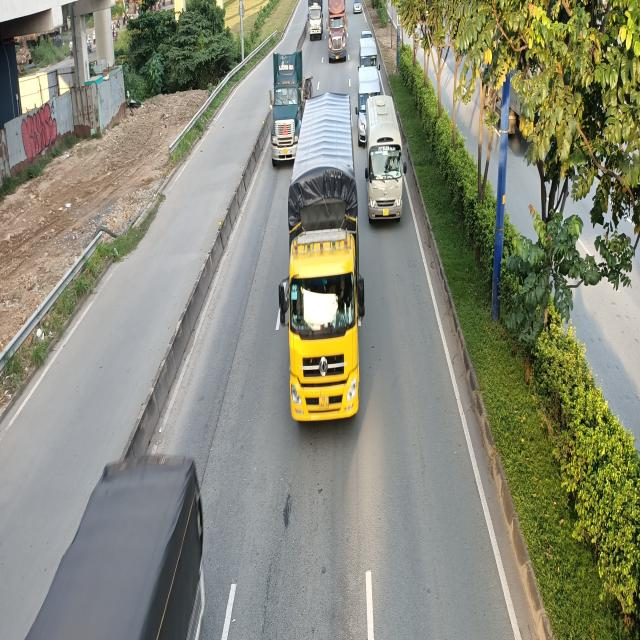car: (352, 0, 362, 13)
coach: (363, 94, 405, 224)
container: (270, 32, 310, 166), (325, 0, 347, 63)
truck: (275, 92, 361, 426)
